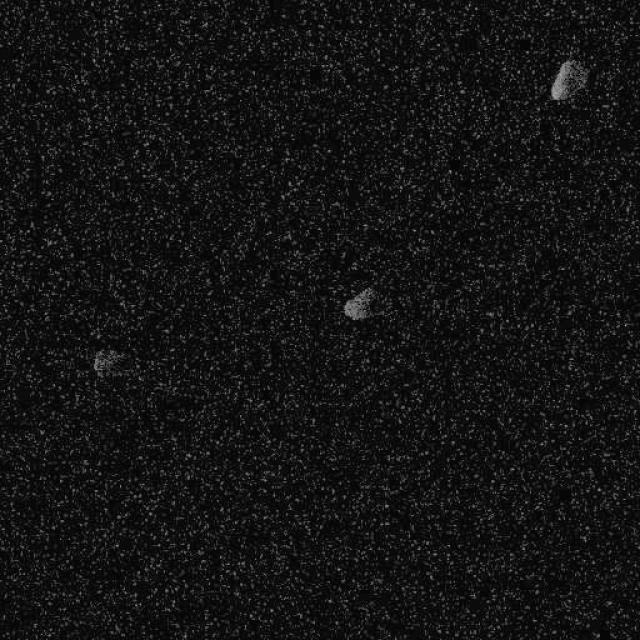D2: (549, 58, 589, 102), (91, 346, 128, 379), (342, 286, 376, 320)
